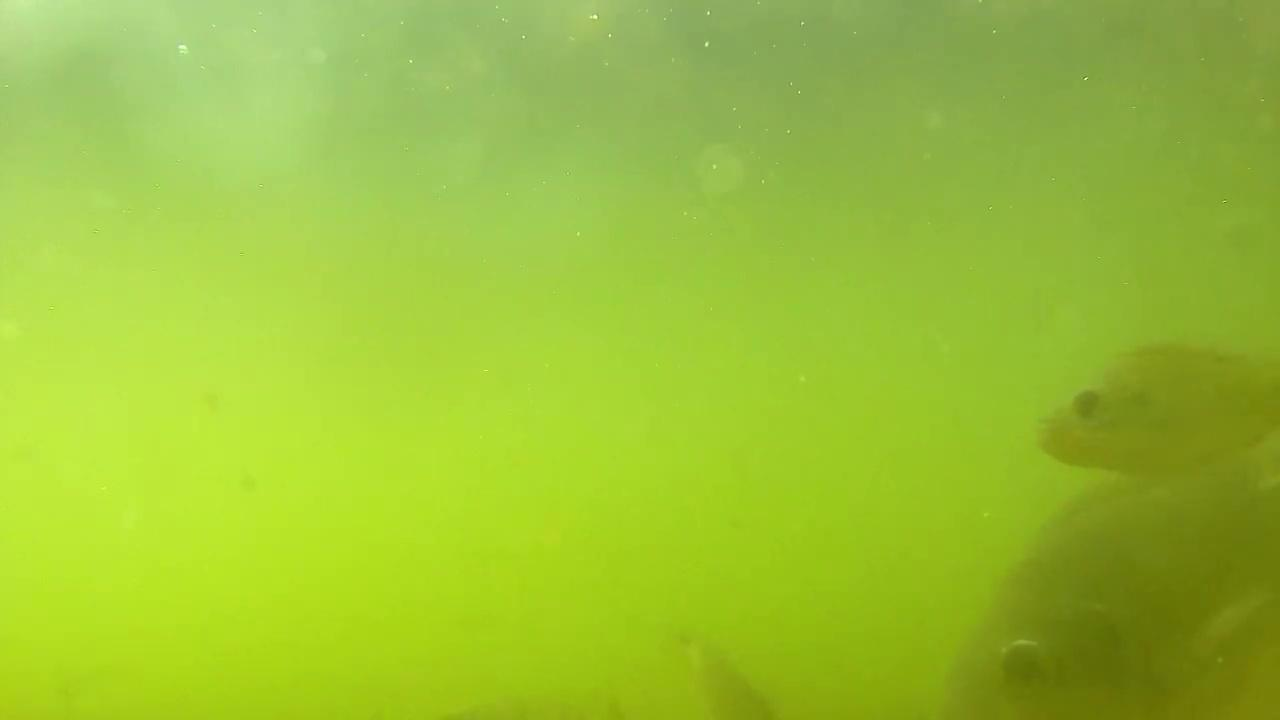Tilapia: (911, 450, 1280, 720), (1015, 310, 1280, 504)
